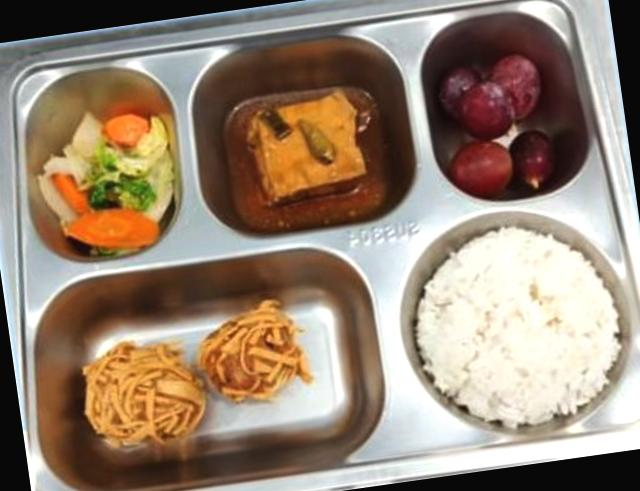ayam: (82, 342, 205, 446)
buah: (435, 53, 561, 199)
nasi: (414, 227, 620, 428), (448, 81, 512, 197)
sayur: (38, 111, 174, 256), (448, 141, 512, 199)
tahu: (246, 92, 366, 204)
